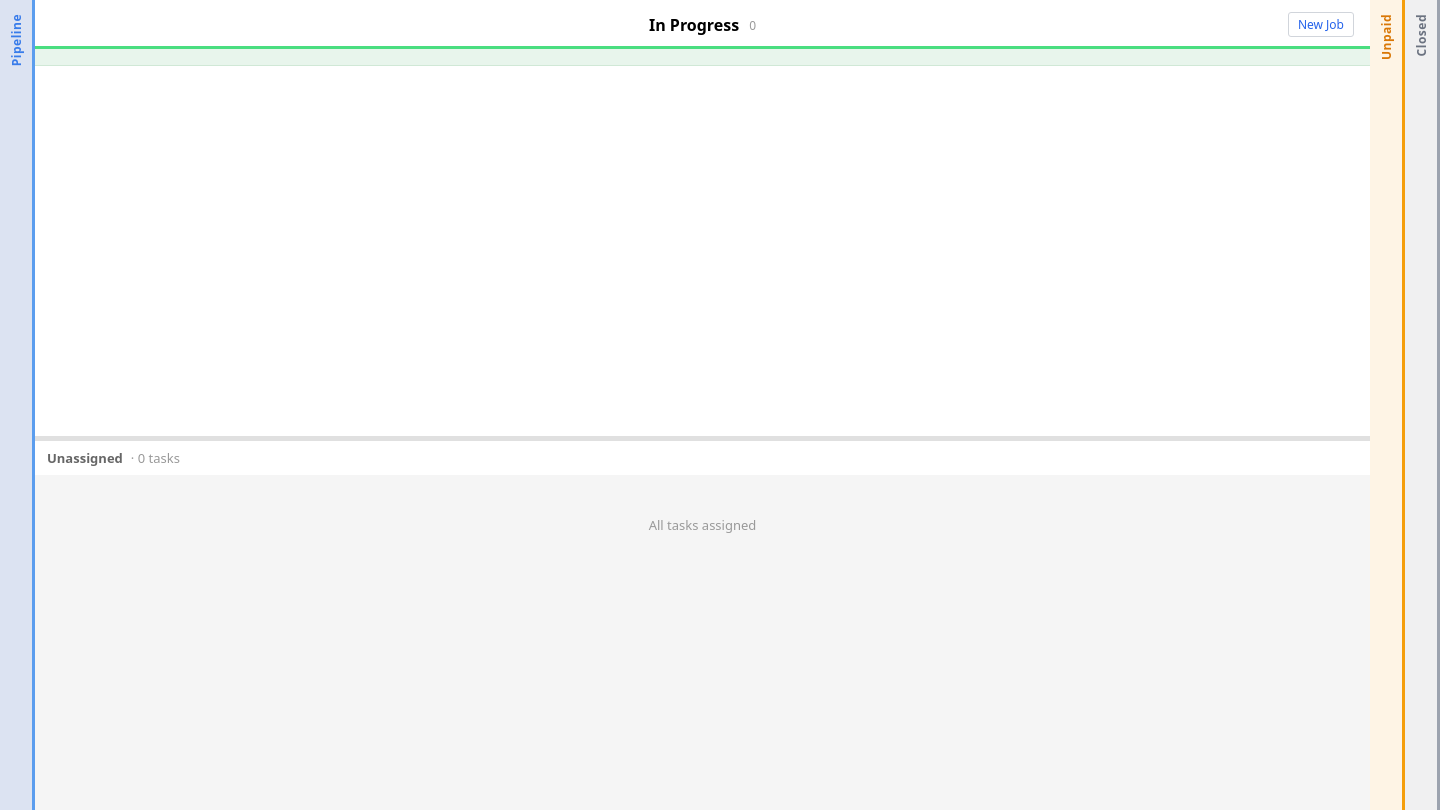
JobBoardPage New Job entry point › keeps the button in the Pipeline pillar header
Expected: the element with class "approved-header" is shown, x1=35 y1=0 x2=1370 y2=49
Click the button "Pipeline".
click(18, 405)  # box x1=0 y1=0 x2=35 y2=809
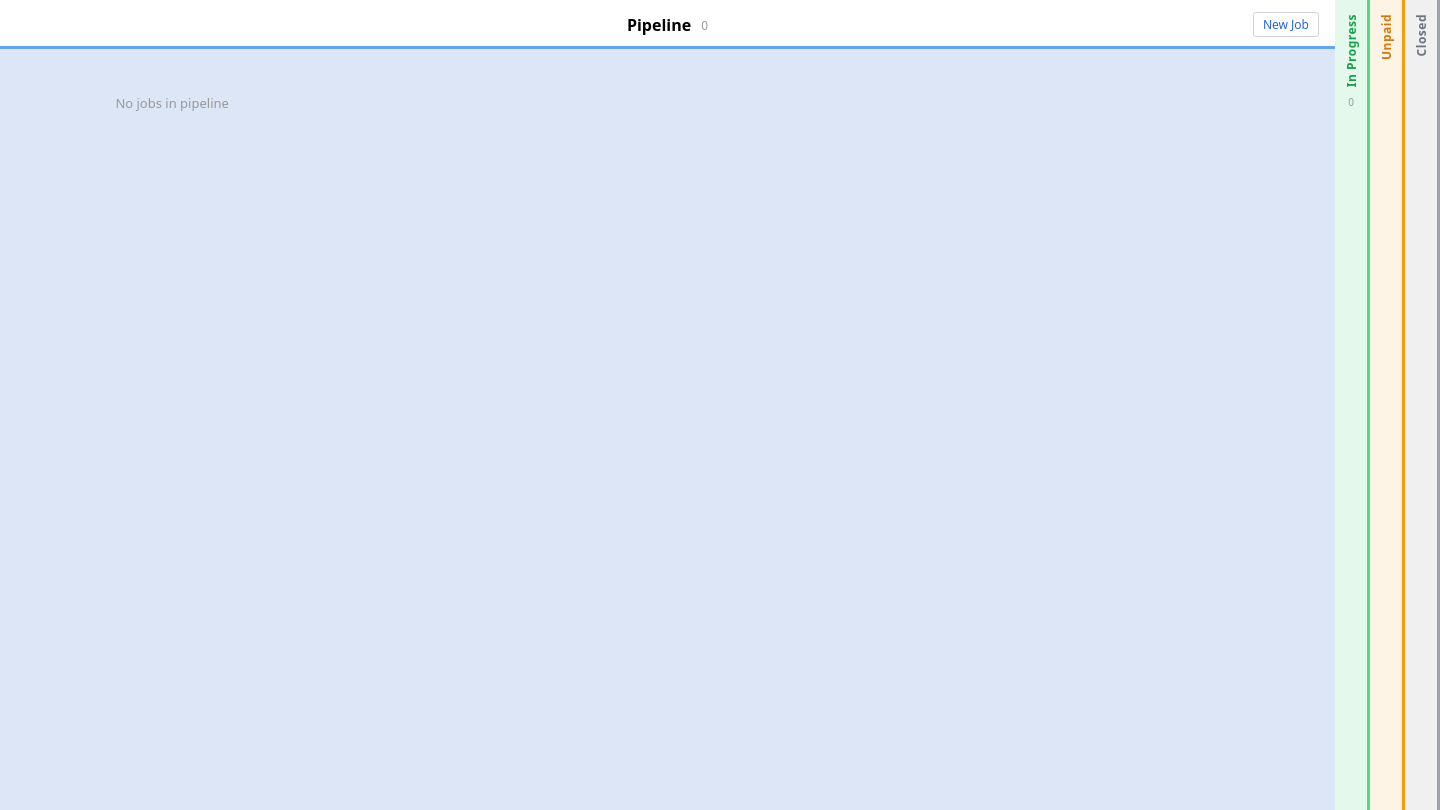
Result: the element with class "column-header" is shown at x1=0 y1=0 x2=1335 y2=49
Result: the element with class "column-header" shows "Pipeline" at x1=627 y1=14 x2=691 y2=36
